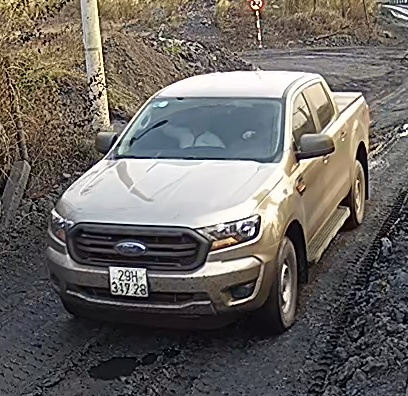vehicle plate: (108, 261, 148, 300)
